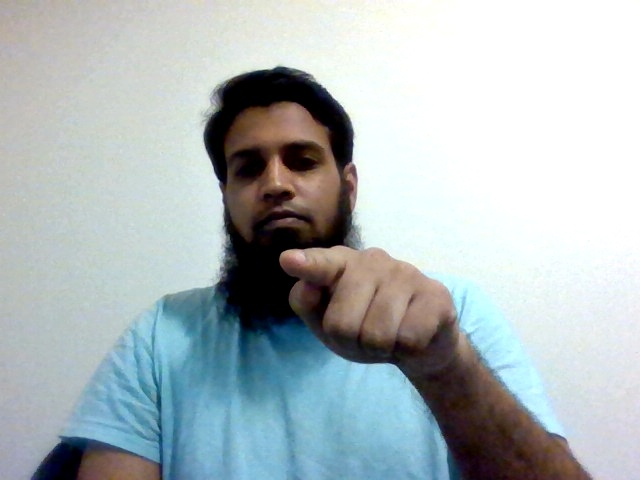you: (273, 243, 467, 378)
